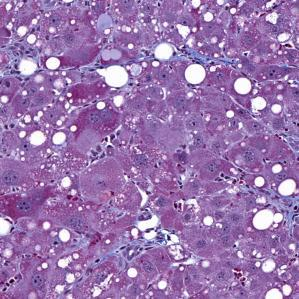fibrosis: (179, 45, 234, 66)
